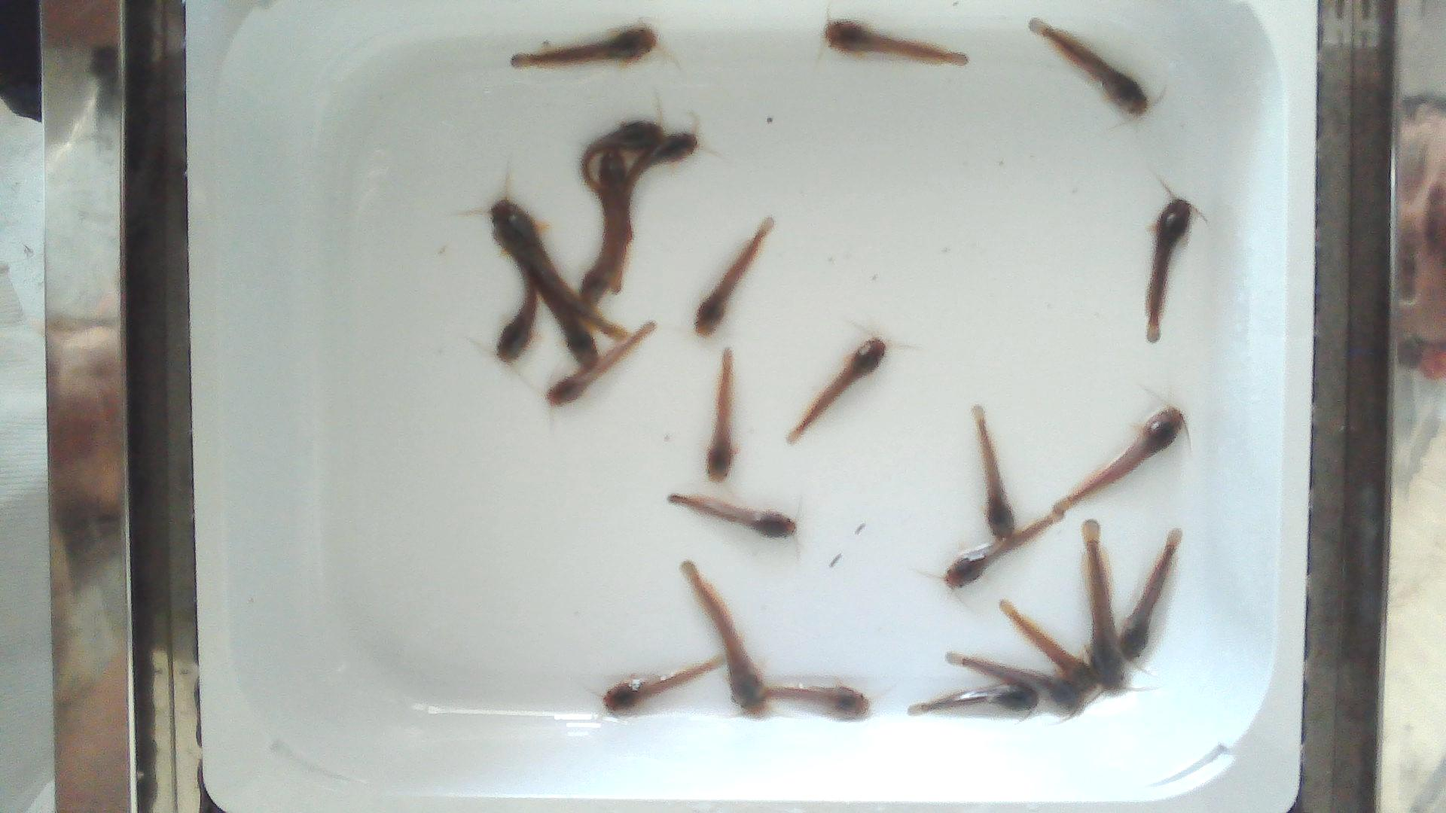lele: (491, 202, 631, 342), (1057, 407, 1189, 510), (682, 561, 768, 714), (1030, 20, 1148, 114), (994, 601, 1101, 701), (788, 336, 885, 441), (942, 509, 1066, 589), (694, 218, 773, 336), (547, 321, 655, 405), (945, 652, 1079, 719), (624, 130, 698, 249), (1120, 531, 1180, 660), (524, 272, 599, 367), (1082, 520, 1123, 690), (1146, 198, 1192, 342), (603, 656, 722, 711), (825, 20, 967, 65), (511, 24, 657, 67), (583, 119, 664, 190), (667, 493, 796, 537), (973, 406, 1014, 540), (495, 231, 535, 361), (597, 149, 627, 292), (706, 349, 737, 482), (580, 199, 615, 309), (906, 685, 1034, 713), (767, 686, 869, 720)
